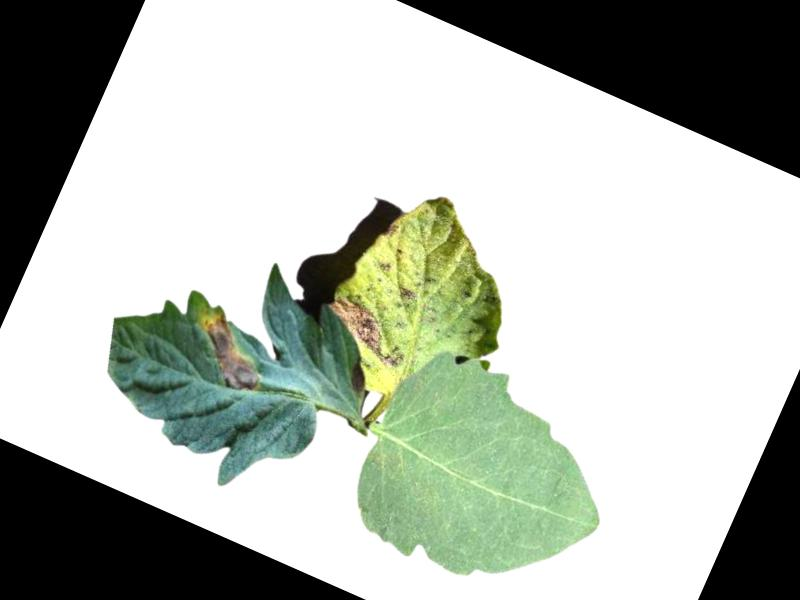Early_blight: (178, 304, 282, 399), (315, 287, 422, 370), (391, 281, 419, 306), (377, 255, 396, 275), (384, 220, 401, 238)
healthy: (330, 334, 639, 600)
